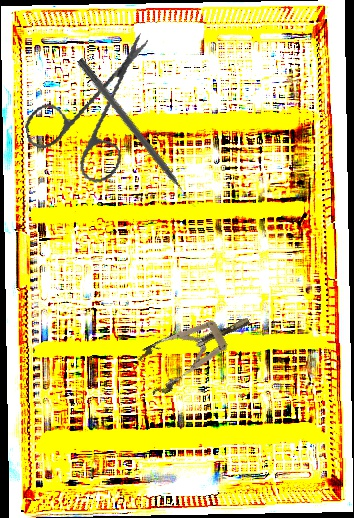Iris Scissors: (11, 32, 174, 195)
Pusher: (74, 57, 199, 211)
Speculum: (132, 298, 261, 400)
